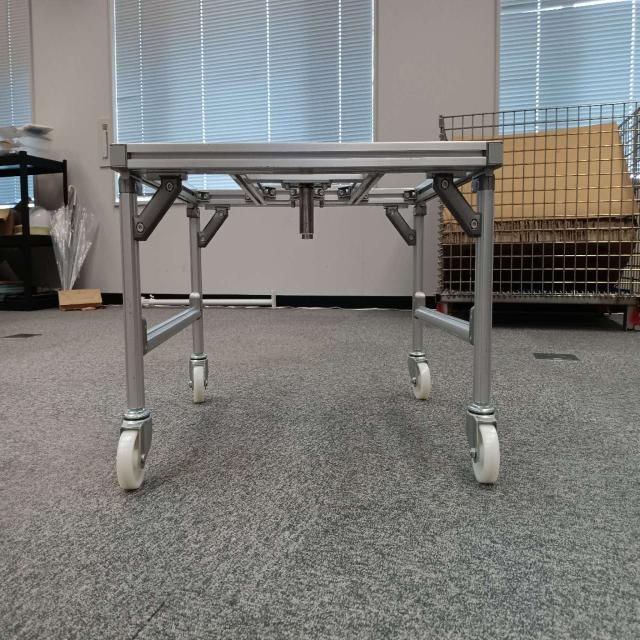door: (113, 137, 496, 246)
